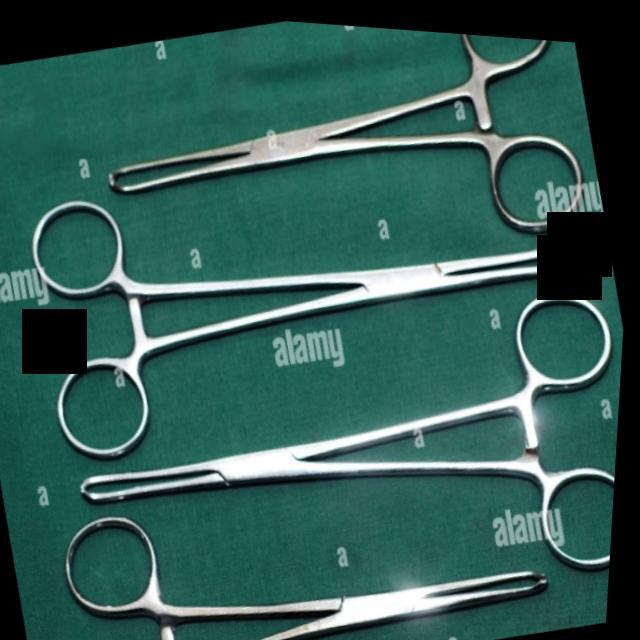Allis Forceps: (9, 78, 628, 496), (47, 238, 629, 640), (71, 5, 602, 323), (24, 409, 577, 640)
